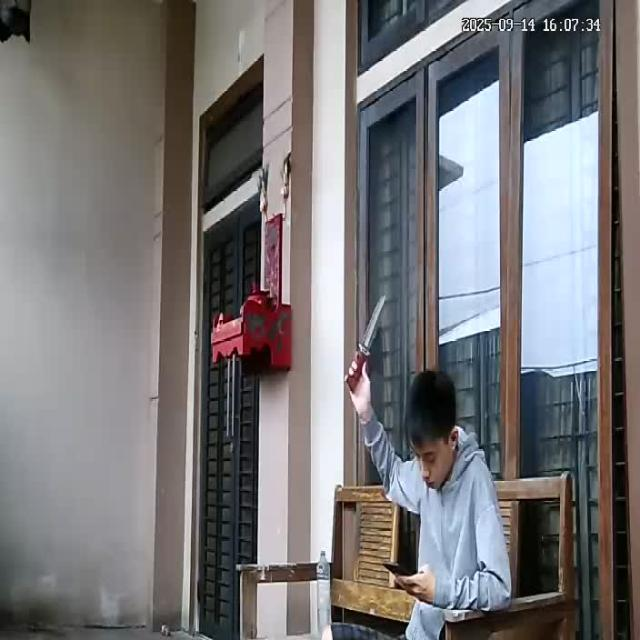senjata_tajam: (355, 290, 389, 360)
